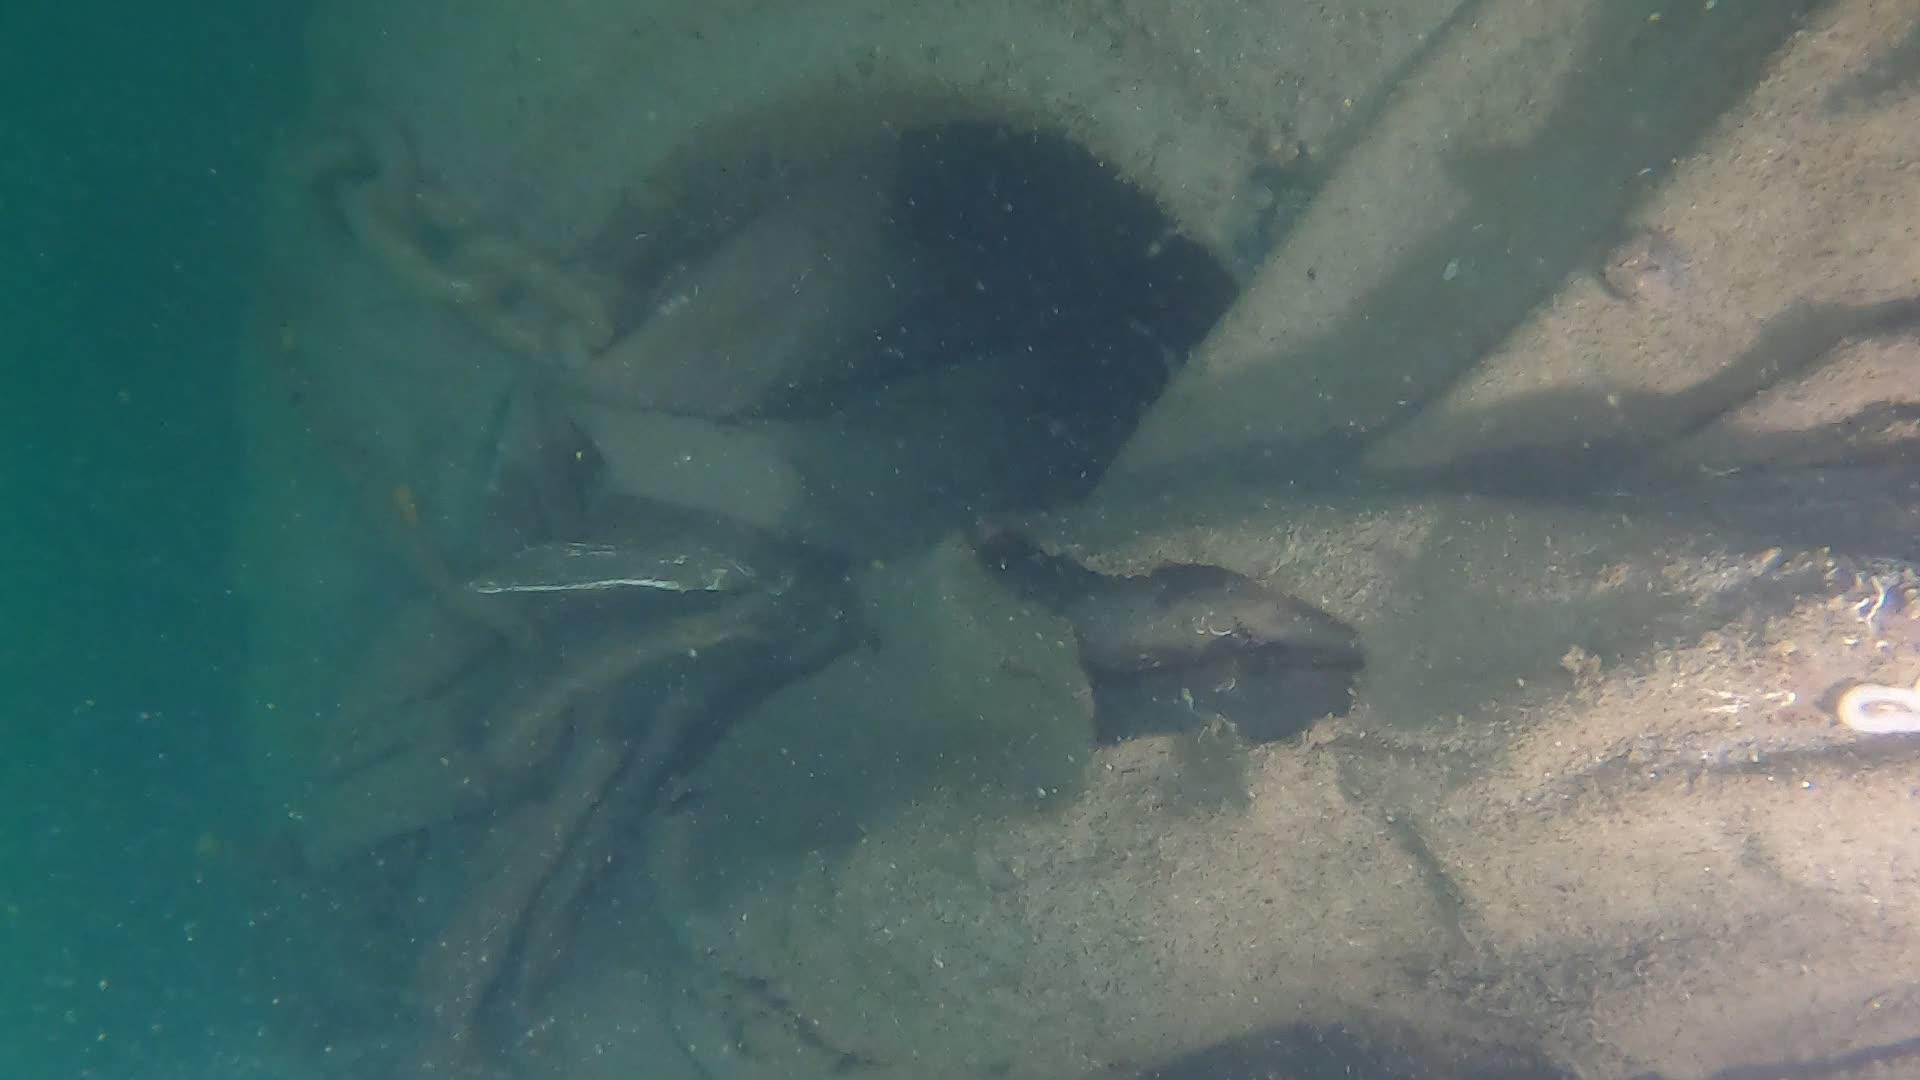tire: (233, 0, 1476, 847)
